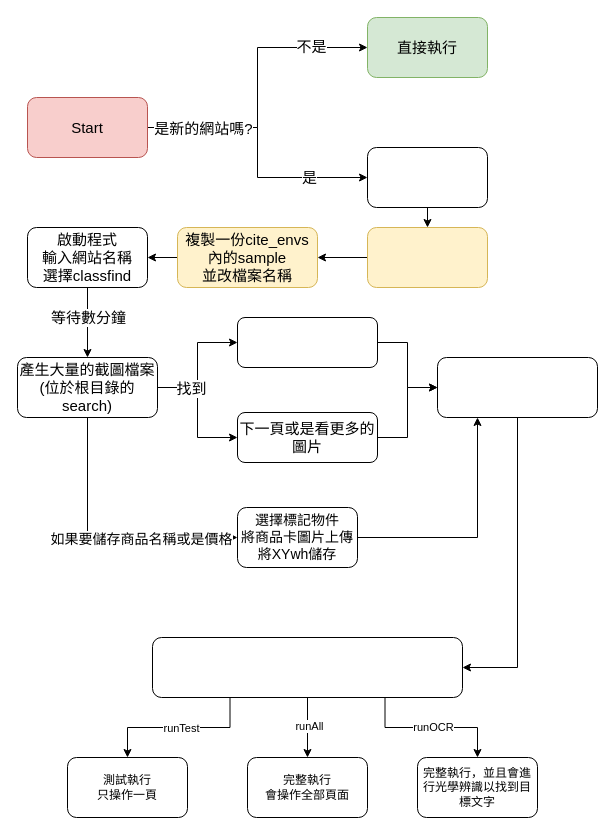
This 615x835 diagram has some shape labels left out. The centre of each missing label's shape, as x and y in pixels:
"在程式根目錄選擇編輯網站資料填寫並送出" belongs at (517,387).
"新網站註冊完畢，可以開始進行執行" belongs at (307,667).
"目標商品卡的圖片" belongs at (307,342).
"編寫cite_file (至少要有一筆資料)" belongs at (427,257).
"註冊網站資料" belongs at (427,177).
